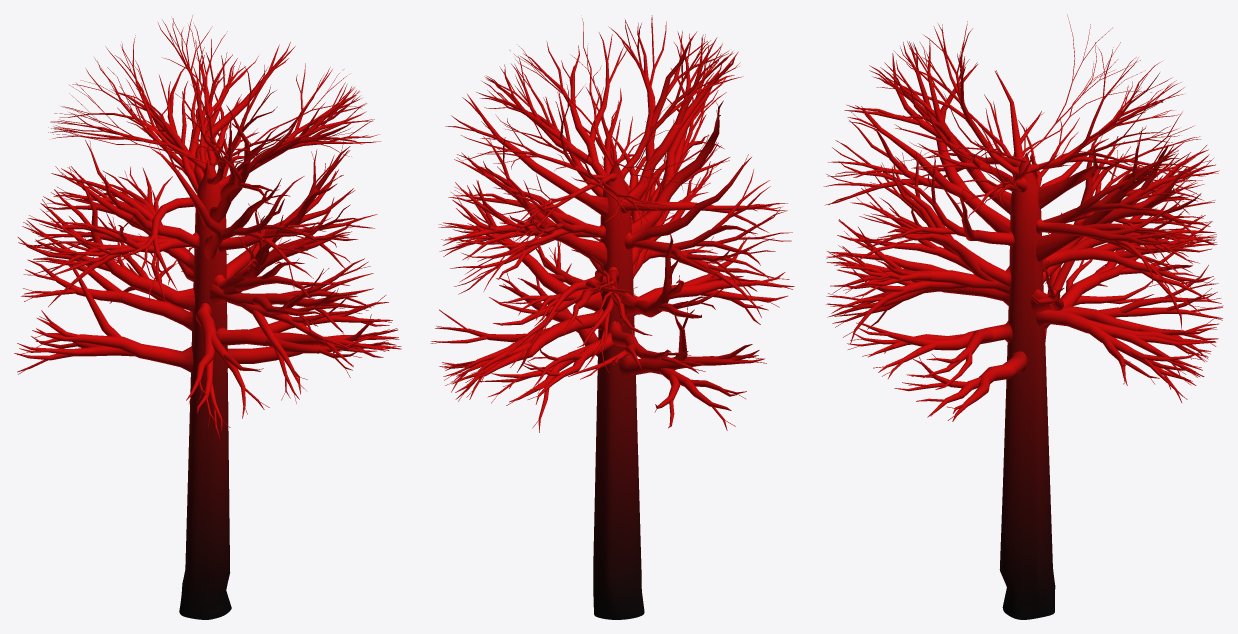
The model's file is ForestTreeCollider.fbx.
The picture shows the model from 3 angles, left to right: view 1: azimuth 30°, elevation 25°; view 2: azimuth 150°, elevation 25°; view 3: azimuth 270°, elevation 25°; orthographic projection. The views are drawn at different scales.
Visible parts, largest first — view 1: ForestTreeCollider; view 2: ForestTreeCollider; view 3: ForestTreeCollider.
Part boxes in pixels (bbox=[...]): ForestTreeCollider: bbox=[14, 15, 401, 619]; ForestTreeCollider: bbox=[430, 15, 794, 619]; ForestTreeCollider: bbox=[823, 14, 1223, 619].
Bounding box in the file's own units: 1104 × 1882 × 1188.
